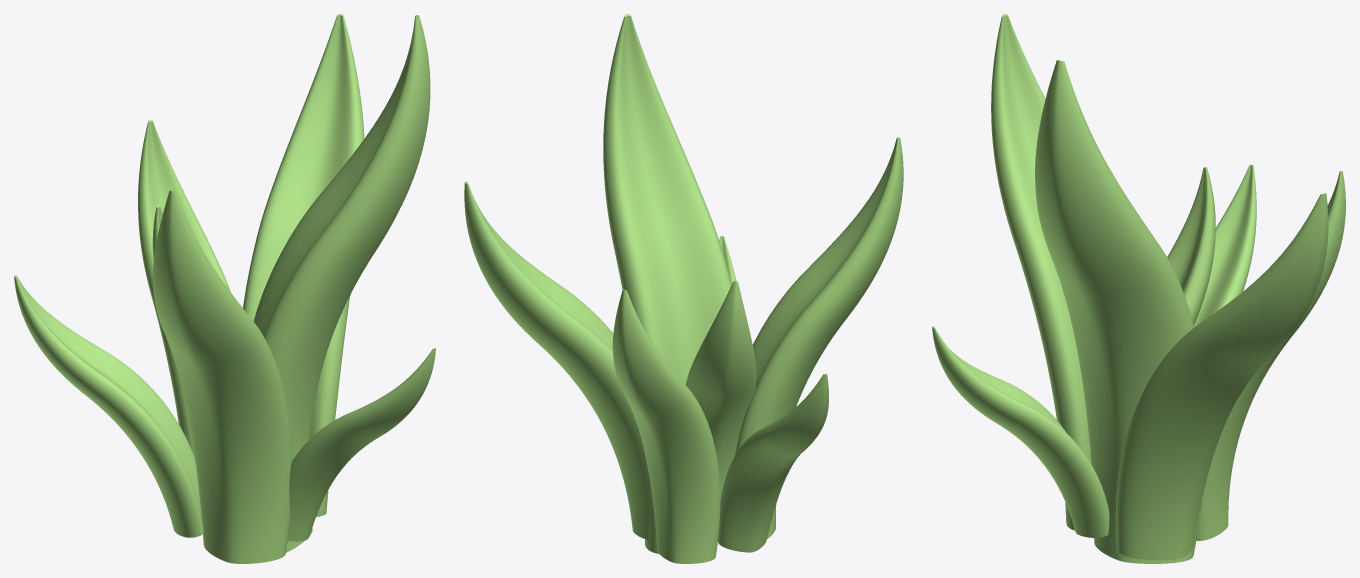
File: aloevera.glb
3 views of the same model, side by side, from view 1: azimuth 30°, elevation 25°; view 2: azimuth 150°, elevation 25°; view 3: azimuth 270°, elevation 25° (orthographic). The views are drawn at different scales.
Parts seen in each view (by area): view 1: plant; view 2: plant; view 3: plant.
Boxes of the visible parts, x1,y1,x2,y2 form: plant: (14,14,435,563); plant: (464,14,903,563); plant: (932,14,1345,563).
Bounding box in the file's own units: 12.06 × 16.53 × 11.36.
